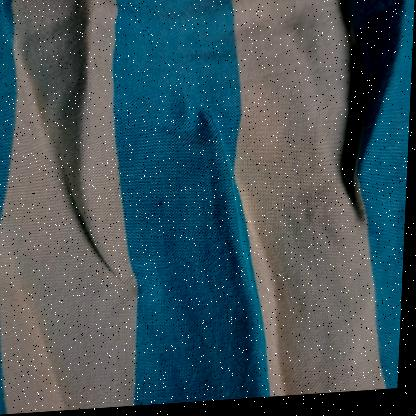spot: (152, 202, 169, 213)
